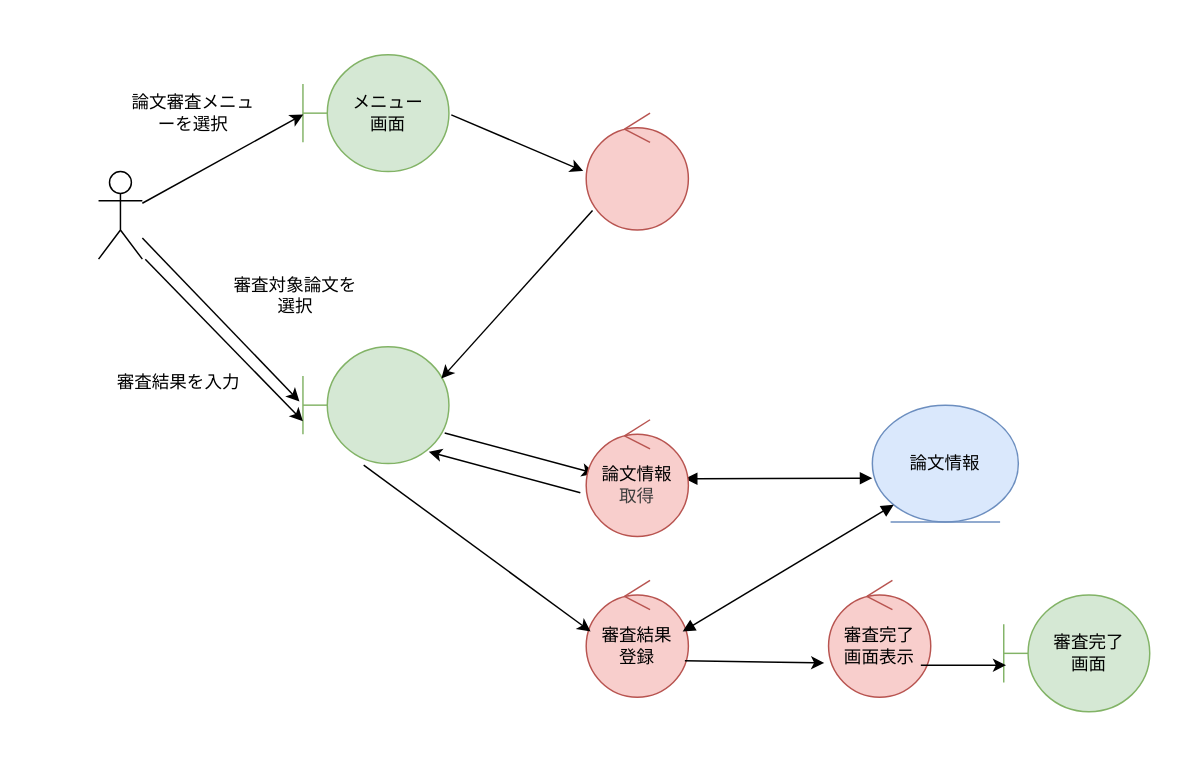
This 1203x780 diagram has some shape labels left out. The centre of each missing label's shape, as x and y in pixels:
"教職員" goes at [119,214].
"論文審査 画面" goes at [375,404].
"論文審査 画面表示" goes at [636,171].
